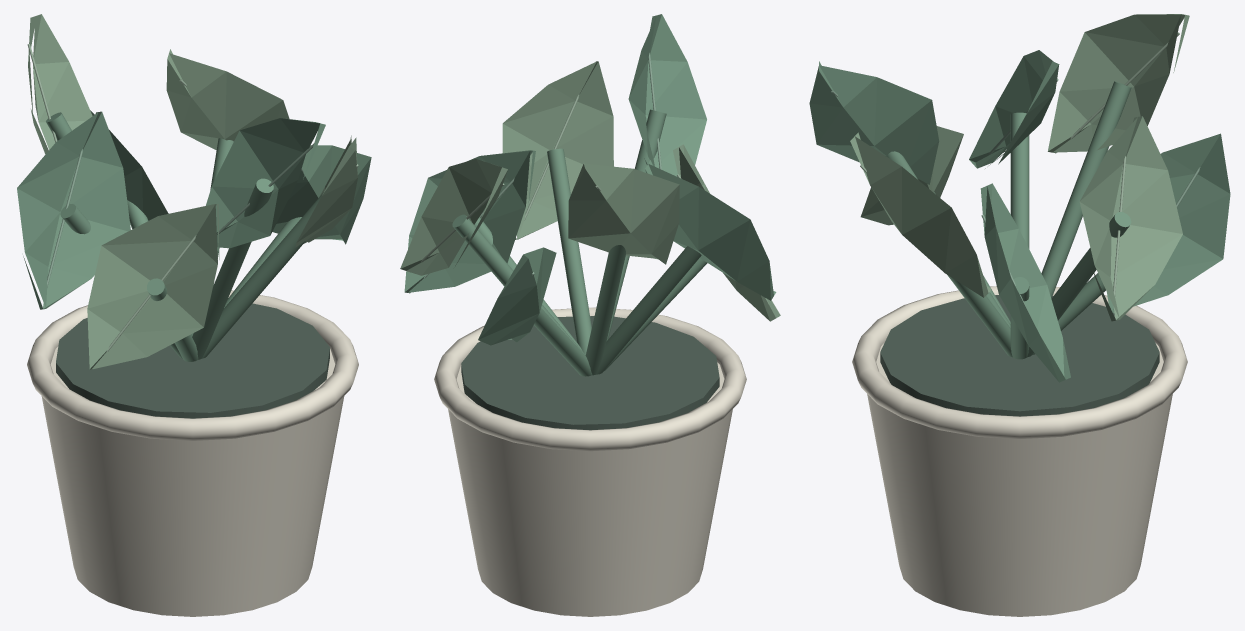
Rendered from plant_broadleaf.glb.
The picture shows the model from 3 angles, left to right: view 1: azimuth 30°, elevation 25°; view 2: azimuth 150°, elevation 25°; view 3: azimuth 270°, elevation 25°; orthographic projection. The views are drawn at different scales.
Parts seen in each view (by area): view 1: _MeshInstance3D_753, _MeshInstance3D_755, _MeshInstance3D_766, _MeshInstance3D_769, _MeshInstance3D_754, _MeshInstance3D_763, _MeshInstance3D_778, _MeshInstance3D_772, _MeshInstance3D_757, _MeshInstance3D_759, _MeshInstance3D_760, _MeshInstance3D_762 (+4 smaller); view 2: _MeshInstance3D_753, _MeshInstance3D_755, _MeshInstance3D_754, _MeshInstance3D_760, _MeshInstance3D_772, _MeshInstance3D_763, _MeshInstance3D_769, _MeshInstance3D_778, _MeshInstance3D_757, _MeshInstance3D_775, _MeshInstance3D_759, _MeshInstance3D_768 (+6 smaller); view 3: _MeshInstance3D_753, _MeshInstance3D_755, _MeshInstance3D_778, _MeshInstance3D_754, _MeshInstance3D_772, _MeshInstance3D_763, _MeshInstance3D_775, _MeshInstance3D_760, _MeshInstance3D_757, _MeshInstance3D_769, _MeshInstance3D_771, _MeshInstance3D_768 (+5 smaller).
Part boxes in pixels (box(x1,y1,x2,y2)): _MeshInstance3D_753: box(41, 346, 344, 616); _MeshInstance3D_755: box(56, 303, 329, 418); _MeshInstance3D_766: box(87, 204, 219, 369); _MeshInstance3D_769: box(17, 111, 130, 309); _MeshInstance3D_754: box(27, 290, 358, 440); _MeshInstance3D_763: box(206, 118, 325, 248); _MeshInstance3D_778: box(166, 49, 289, 150); _MeshInstance3D_772: box(28, 14, 92, 154); _MeshInstance3D_757: box(272, 145, 371, 244); _MeshInstance3D_759: box(202, 192, 323, 358); _MeshInstance3D_760: box(295, 135, 357, 247); _MeshInstance3D_762: box(192, 178, 273, 359); _MeshInstance3D_753: box(448, 362, 732, 616); _MeshInstance3D_755: box(461, 316, 719, 430); _MeshInstance3D_754: box(434, 307, 746, 451); _MeshInstance3D_760: box(502, 61, 613, 239); _MeshInstance3D_772: box(568, 160, 679, 264); _MeshInstance3D_763: box(628, 14, 706, 176); _MeshInstance3D_769: box(645, 160, 776, 300); _MeshInstance3D_778: box(400, 159, 507, 275); _MeshInstance3D_757: box(404, 150, 535, 293); _MeshInstance3D_775: box(478, 247, 556, 345); _MeshInstance3D_759: box(547, 148, 591, 354); _MeshInstance3D_768: box(596, 246, 701, 374); _MeshInstance3D_753: box(867, 343, 1172, 616); _MeshInstance3D_755: box(880, 295, 1159, 416); _MeshInstance3D_778: box(1079, 116, 1182, 321); _MeshInstance3D_754: box(852, 286, 1187, 438); _MeshInstance3D_772: box(1047, 14, 1189, 153); _MeshInstance3D_763: box(809, 61, 939, 184); _MeshInstance3D_775: box(1107, 133, 1230, 313); _MeshInstance3D_760: box(850, 132, 991, 297); _MeshInstance3D_757: box(980, 183, 1070, 382); _MeshInstance3D_769: box(969, 50, 1059, 168); _MeshInstance3D_771: box(1041, 81, 1131, 298); _MeshInstance3D_768: box(1010, 112, 1029, 248).
Size of the model in its own units: 0.6997 by 0.9476 by 0.6997.
